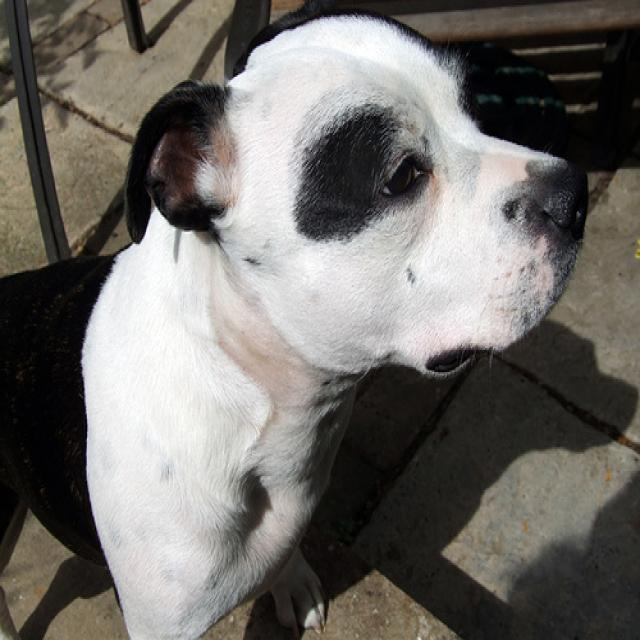dog: (122, 0, 586, 375)
